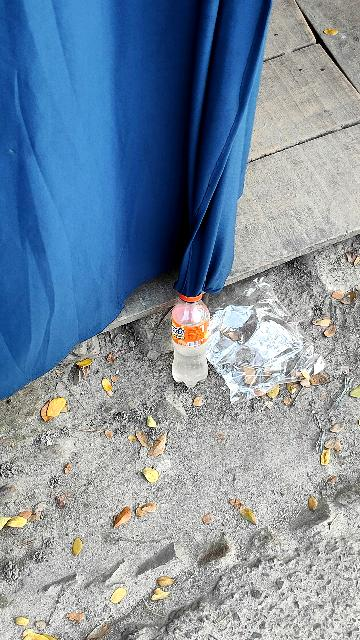bottle: (173, 280, 214, 386)
